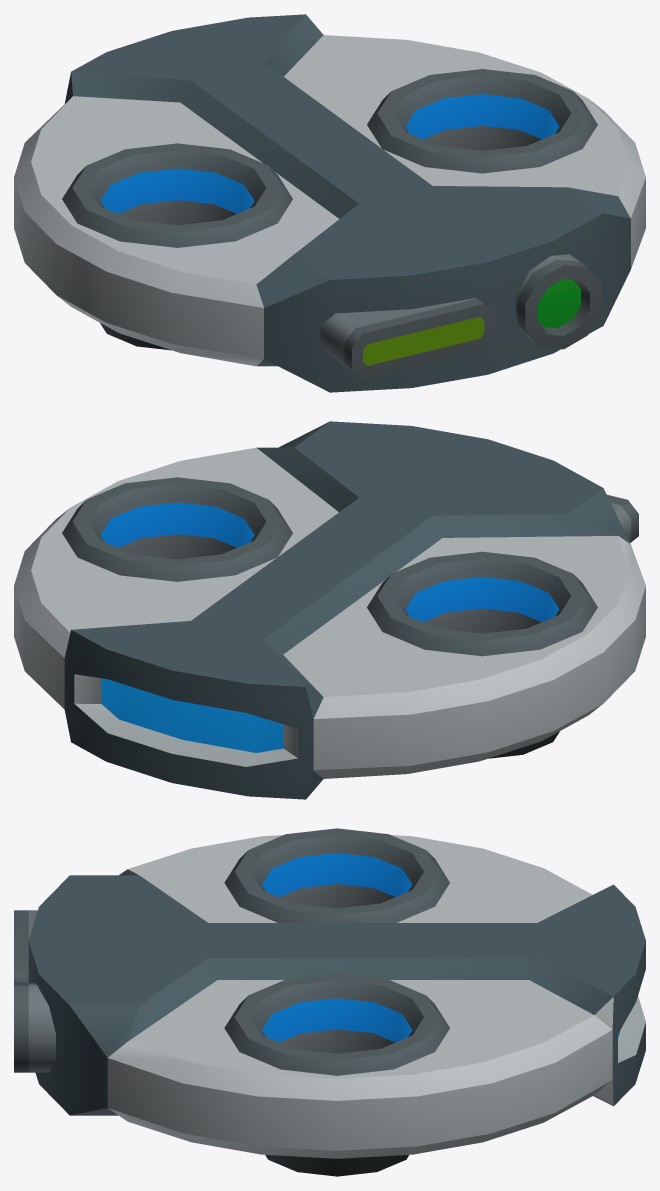
File: Drone_007.glb
3 renders of one model, top to bottom at view 1: azimuth 30°, elevation 25°; view 2: azimuth 150°, elevation 25°; view 3: azimuth 270°, elevation 25°, orthographic. The views are drawn at different scales.
Parts seen in each view (by area): view 1: Drone_007; view 2: Drone_007; view 3: Drone_007.
Part boxes in pixels (x1,y1,x2,y2): Drone_007: (14, 14, 645, 392); Drone_007: (14, 421, 645, 799); Drone_007: (14, 828, 645, 1176).
Bounding box in the file's own units: 0.56 × 0.1362 × 0.5732.
2 materials, 2 textured.
